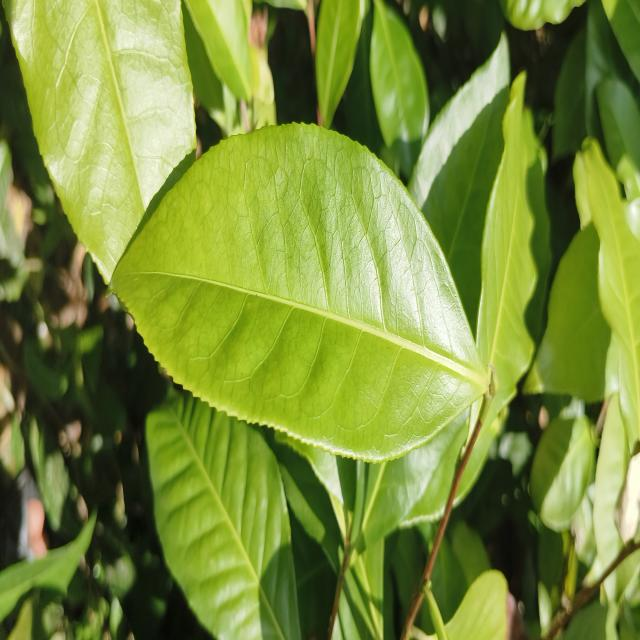Leaf: (112, 125, 487, 461), (4, 0, 196, 281), (146, 393, 300, 640), (408, 34, 510, 329), (476, 72, 551, 434), (574, 139, 640, 440), (523, 224, 619, 402), (369, 0, 429, 178), (0, 514, 95, 620), (529, 415, 595, 531), (185, 0, 252, 101), (315, 0, 365, 128), (445, 570, 528, 640), (596, 78, 640, 200), (76, 325, 103, 392)
